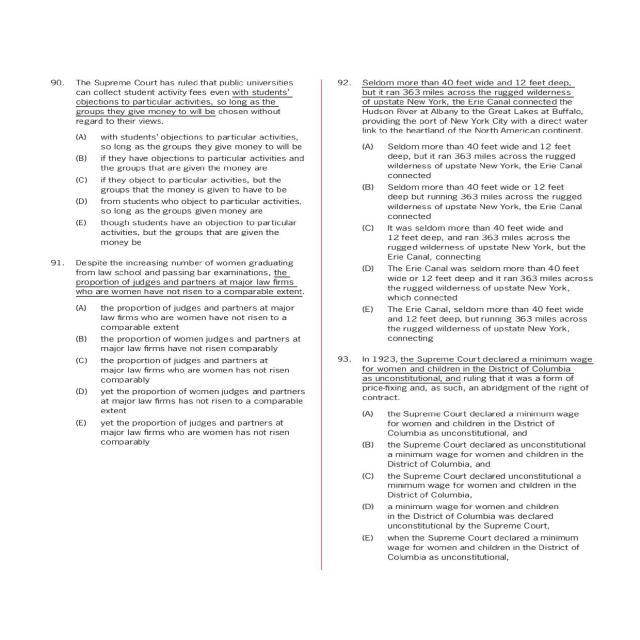Answer_Block: (36, 298, 311, 534), (330, 140, 605, 342), (330, 403, 605, 563), (36, 128, 311, 253)
Question_Answer_Block: (36, 254, 311, 534), (330, 76, 605, 342), (330, 348, 605, 564), (36, 78, 311, 254)
Question_Block: (330, 76, 605, 138), (330, 348, 605, 402), (36, 78, 311, 128), (36, 254, 311, 300)
Question_Paper_Area: (330, 76, 605, 564), (36, 78, 311, 534)
